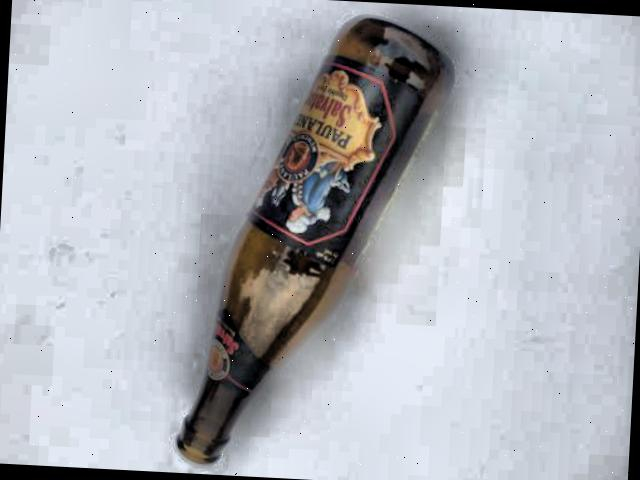Bottles: (153, 0, 468, 480)
